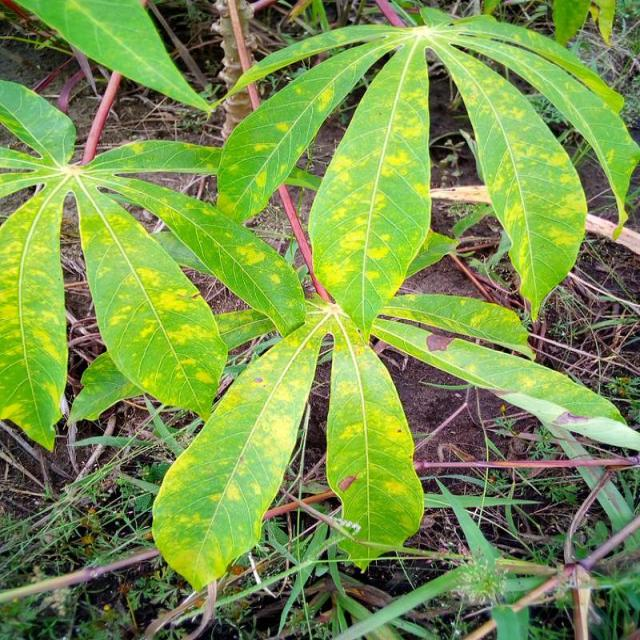cassava leaf: (1, 2, 638, 595), (150, 307, 328, 591), (425, 30, 588, 322), (70, 171, 229, 421), (306, 34, 432, 339), (324, 317, 425, 572), (16, 0, 212, 118), (0, 182, 69, 452)
